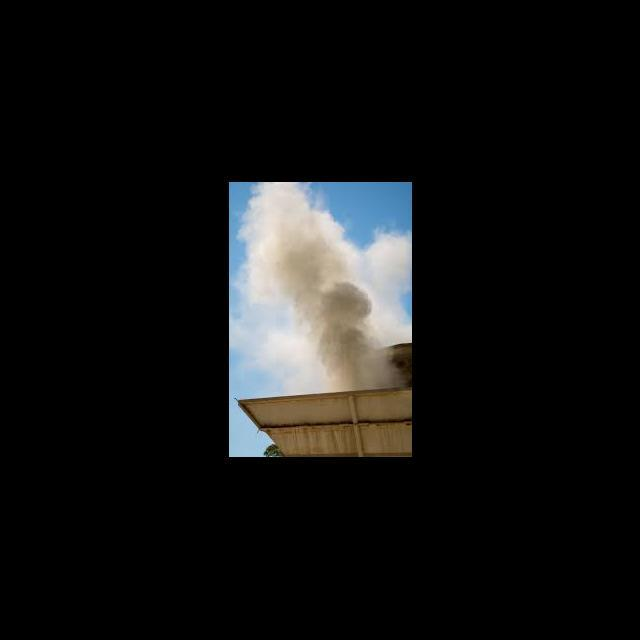Smoke: (230, 185, 412, 396)
